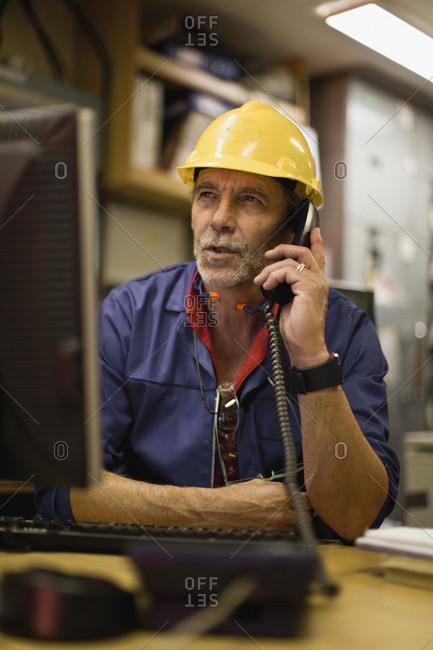helmet: (177, 97, 324, 205)
